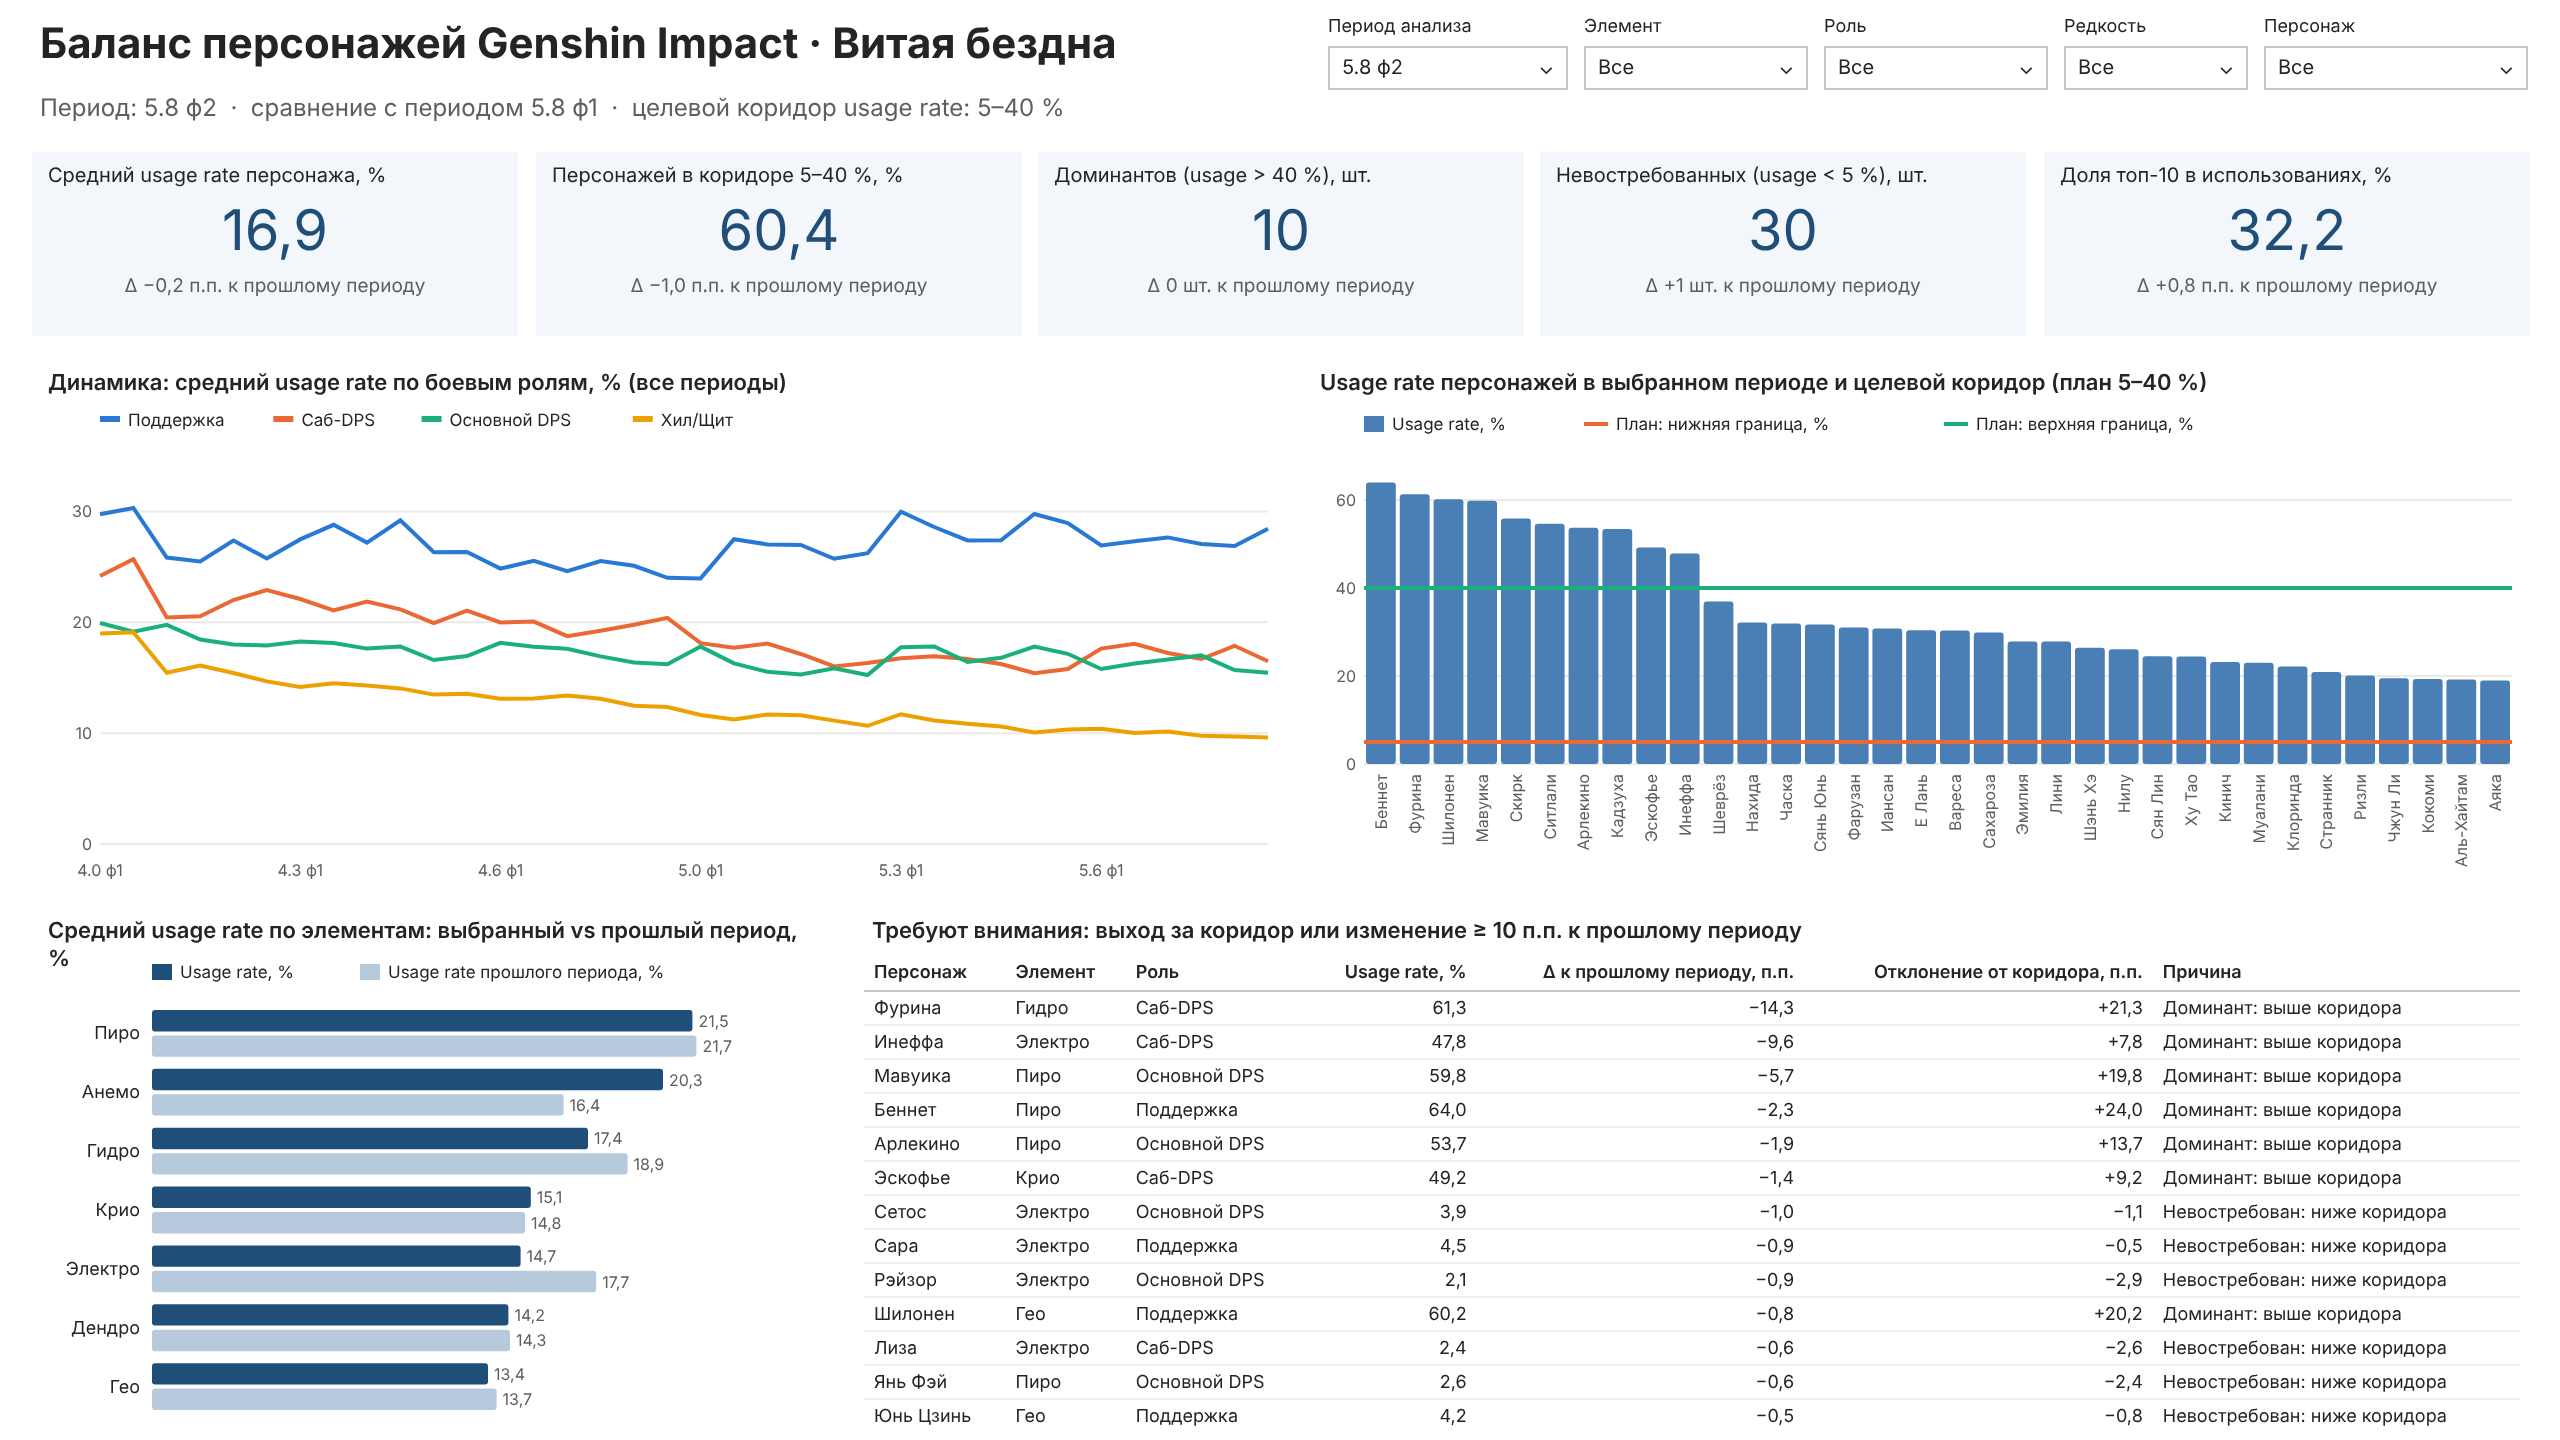

The dashboard page shown, as its layout file describes it:
{"tool":"powerbi","page":{"name":"Баланс персонажей","canvas":[1280,720],"ordinal":0},"visuals":[{"type":"textbox","box":[16,6,640,36],"z":1000},{"type":"card","fields":{"Values":["fact_abyss_usage.Подпись периода"]},"box":[16,42,640,28],"z":2000},{"type":"slicer","fields":{"Values":["Выбор периода.Период"]},"box":[664,8,120,58],"z":3000},{"type":"slicer","fields":{"Values":["dim_character.Элемент"]},"box":[792,8,112,58],"z":4000},{"type":"slicer","fields":{"Values":["dim_character.Роль"]},"box":[912,8,112,58],"z":5000},{"type":"slicer","fields":{"Values":["dim_character.Редкость"]},"box":[1032,8,92,58],"z":6000},{"type":"slicer","fields":{"Values":["dim_character.Персонаж"]},"box":[1132,8,132,58],"z":7000},{"type":"card","title":"Средний usage rate персонажа, %","fields":{"Values":["fact_abyss_usage.Usage rate, %"]},"box":[16,76,243,66],"z":8000},{"type":"card","fields":{"Values":["fact_abyss_usage.Δ текст: usage rate"]},"box":[16,142,243,26],"z":9000},{"type":"card","title":"Персонажей в коридоре 5–40 %, %","fields":{"Values":["fact_abyss_usage.В коридоре, %"]},"box":[268,76,243,66],"z":10000},{"type":"card","fields":{"Values":["fact_abyss_usage.Δ текст: в коридоре"]},"box":[267.9,141.7,243,26],"z":11000},{"type":"card","title":"Доминантов (usage > 40 %), шт.","fields":{"Values":["fact_abyss_usage.Доминантов (>40%)"]},"box":[519,76,243,66],"z":12000},{"type":"card","fields":{"Values":["fact_abyss_usage.Δ текст: доминанты"]},"box":[519,142,243,26],"z":13000},{"type":"card","title":"Невостребованных (usage < 5 %), шт.","fields":{"Values":["fact_abyss_usage.Невостребованных (<5%)"]},"box":[770,76,243,66],"z":14000},{"type":"card","fields":{"Values":["fact_abyss_usage.Δ текст: невостребованные"]},"box":[770,142,243,26],"z":15000},{"type":"card","title":"Доля топ-10 в использованиях, %","fields":{"Values":["fact_abyss_usage.Доля топ-10 в использованиях, %"]},"box":[1022,76,243,66],"z":16000},{"type":"card","fields":{"Values":["fact_abyss_usage.Δ текст: топ-10"]},"box":[1022,142,243,26],"z":17000},{"type":"lineChart","title":"Динамика: средний usage rate по боевым ролям, % (все периоды)","fields":{"Category":["dim_period.Начало"],"Series":["dim_character.Роль"],"Y":["fact_abyss_usage.Usage rate (динамика), %"]},"box":[16,178,628,266],"z":18000},{"type":"lineClusteredColumnComboChart","title":"Usage rate персонажей в выбранном периоде и целевой коридор (план 5–40 %)","fields":{"Category":["dim_character.Персонаж"],"Y":["fact_abyss_usage.Usage rate, %"],"Y2":["fact_abyss_usage.План: нижняя граница, %","fact_abyss_usage.План: верхняя граница, %"]},"box":[652,178,612,266],"z":19000},{"type":"clusteredBarChart","title":"Usage rate по элементам и прошлый период, %","fields":{"Category":["dim_character.Элемент"],"Y":["fact_abyss_usage.Usage rate, %","fact_abyss_usage.Usage rate прошлого периода, %"]},"box":[16,452,404,262],"z":20000},{"type":"tableEx","title":"Требуют внимания: выход за коридор или изменение ≥ 10 п.п. к прошлому периоду","fields":{"Values":["dim_character.Персонаж","dim_character.Элемент","dim_character.Роль","fact_abyss_usage.Внимание: usage rate, %","fact_abyss_usage.Внимание: Δ к прошлому периоду (пп)","fact_abyss_usage.Внимание: отклонение от коридора (пп)","fact_abyss_usage.Внимание: причина"]},"box":[428,452,836,262],"z":21000}]}

Visuals, with their boxes in screenshot pixels (x1, y1, x2, y2), scaled from the page's 1280x720 canvas onto the 2560x1440 screenshot:
textbox: (x1=32, y1=12, x2=1312, y2=84)
card - fact_abyss_usage.Подпись периода: (x1=32, y1=84, x2=1312, y2=140)
slicer - Выбор периода.Период: (x1=1328, y1=16, x2=1568, y2=132)
slicer - dim_character.Элемент: (x1=1584, y1=16, x2=1808, y2=132)
slicer - dim_character.Роль: (x1=1824, y1=16, x2=2048, y2=132)
slicer - dim_character.Редкость: (x1=2064, y1=16, x2=2248, y2=132)
slicer - dim_character.Персонаж: (x1=2264, y1=16, x2=2528, y2=132)
"Средний usage rate персонажа, %" card: (x1=32, y1=152, x2=518, y2=284)
card - fact_abyss_usage.Δ текст: usage rate: (x1=32, y1=284, x2=518, y2=336)
"Персонажей в коридоре 5–40 %, %" card: (x1=536, y1=152, x2=1022, y2=284)
card - fact_abyss_usage.Δ текст: в коридоре: (x1=536, y1=283, x2=1022, y2=335)
"Доминантов (usage > 40 %), шт." card: (x1=1038, y1=152, x2=1524, y2=284)
card - fact_abyss_usage.Δ текст: доминанты: (x1=1038, y1=284, x2=1524, y2=336)
"Невостребованных (usage < 5 %), шт." card: (x1=1540, y1=152, x2=2026, y2=284)
card - fact_abyss_usage.Δ текст: невостребованные: (x1=1540, y1=284, x2=2026, y2=336)
"Доля топ-10 в использованиях, %" card: (x1=2044, y1=152, x2=2530, y2=284)
card - fact_abyss_usage.Δ текст: топ-10: (x1=2044, y1=284, x2=2530, y2=336)
"Динамика: средний usage rate по боевым ролям, % (все периоды)" lineChart: (x1=32, y1=356, x2=1288, y2=888)
"Usage rate персонажей в выбранном периоде и целевой коридор (план 5–40 %)" lineClusteredColumnComboChart: (x1=1304, y1=356, x2=2528, y2=888)
"Usage rate по элементам и прошлый период, %" clusteredBarChart: (x1=32, y1=904, x2=840, y2=1428)
"Требуют внимания: выход за коридор или изменение ≥ 10 п.п. к прошлому периоду" tableEx: (x1=856, y1=904, x2=2528, y2=1428)
